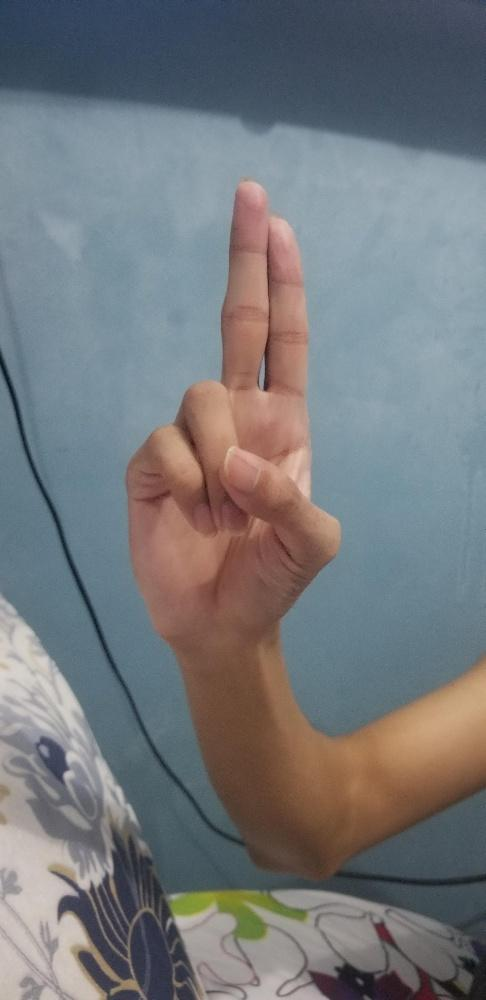u: (122, 170, 342, 654)
